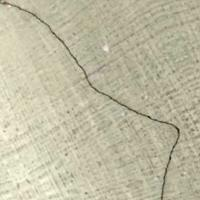crack: (5, 0, 185, 197)
